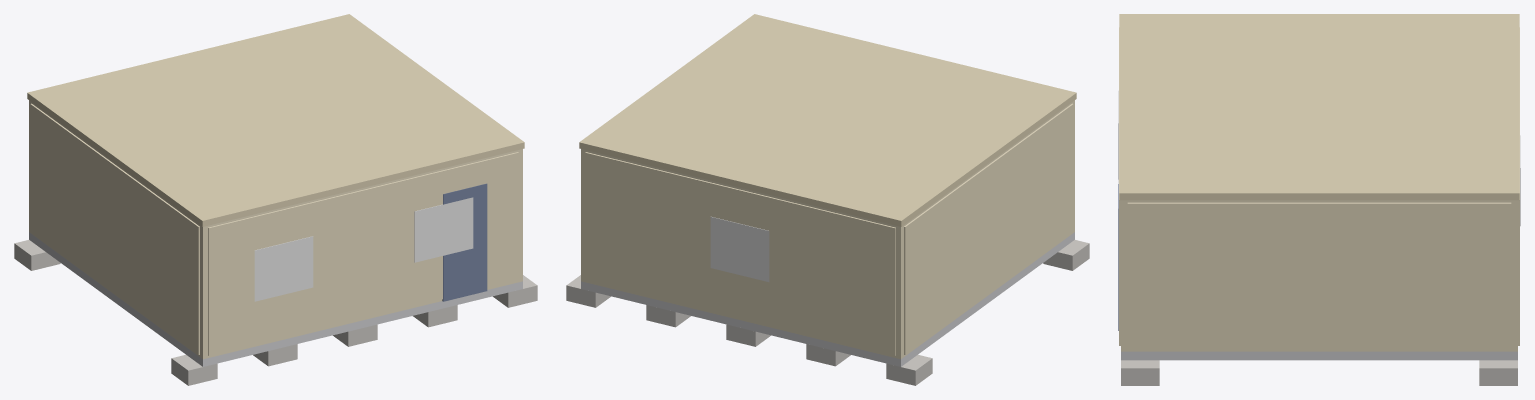
The model's file is Studio-20-Base-MicroGrainYellowSlate-LOD0.glb.
3 views of the same model, side by side, from view 1: azimuth 30°, elevation 25°; view 2: azimuth 150°, elevation 25°; view 3: azimuth 270°, elevation 25° (orthographic). The views are drawn at different scales.
Parts seen in each view (by area): view 1: RoofMain, ExteriorPanelsStandard, WindowsStandard, FoundationBlocks, BaseFrame, ExteriorShell, EntryDoor; view 2: ExteriorPanelsStandard, RoofMain, FoundationBlocks, BaseFrame, ExteriorShell, WindowsStandard; view 3: RoofMain, ExteriorPanelsStandard, ExteriorShell, BaseFrame, FoundationBlocks.
Part boxes in pixels (x1,y1,x2,y2): RoofMain: (27, 14, 524, 226); ExteriorPanelsStandard: (30, 103, 518, 355); WindowsStandard: (254, 197, 473, 301); FoundationBlocks: (14, 240, 537, 385); BaseFrame: (29, 232, 522, 366); ExteriorShell: (29, 100, 522, 359); EntryDoor: (442, 183, 487, 301); ExteriorPanelsStandard: (585, 103, 1073, 355); RoofMain: (579, 14, 1076, 226); FoundationBlocks: (566, 240, 1089, 385); BaseFrame: (581, 232, 1074, 366); ExteriorShell: (581, 100, 1074, 359); WindowsStandard: (710, 216, 769, 281); RoofMain: (1119, 14, 1519, 200); ExteriorPanelsStandard: (1119, 27, 1519, 349); ExteriorShell: (1121, 200, 1517, 351); BaseFrame: (1121, 351, 1517, 360); FoundationBlocks: (1121, 360, 1517, 385).
Size of the model in its own units: 7.14 by 3.17 by 6.24.
